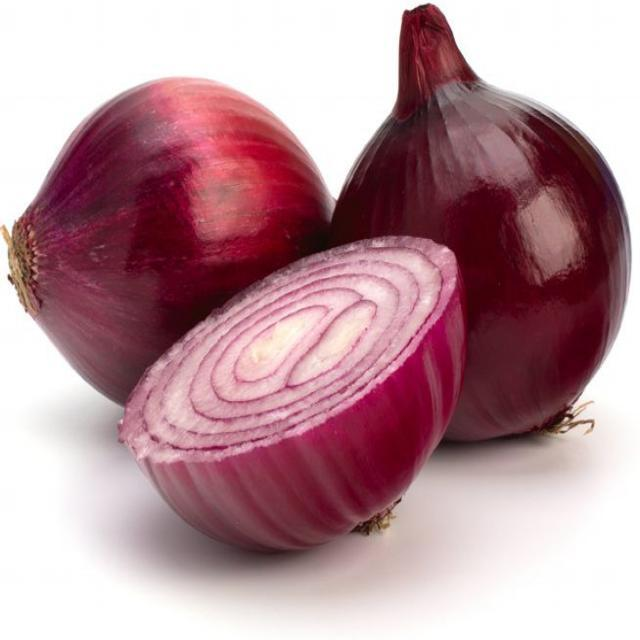onion: (331, 3, 632, 444), (113, 227, 478, 569), (8, 75, 337, 411)
